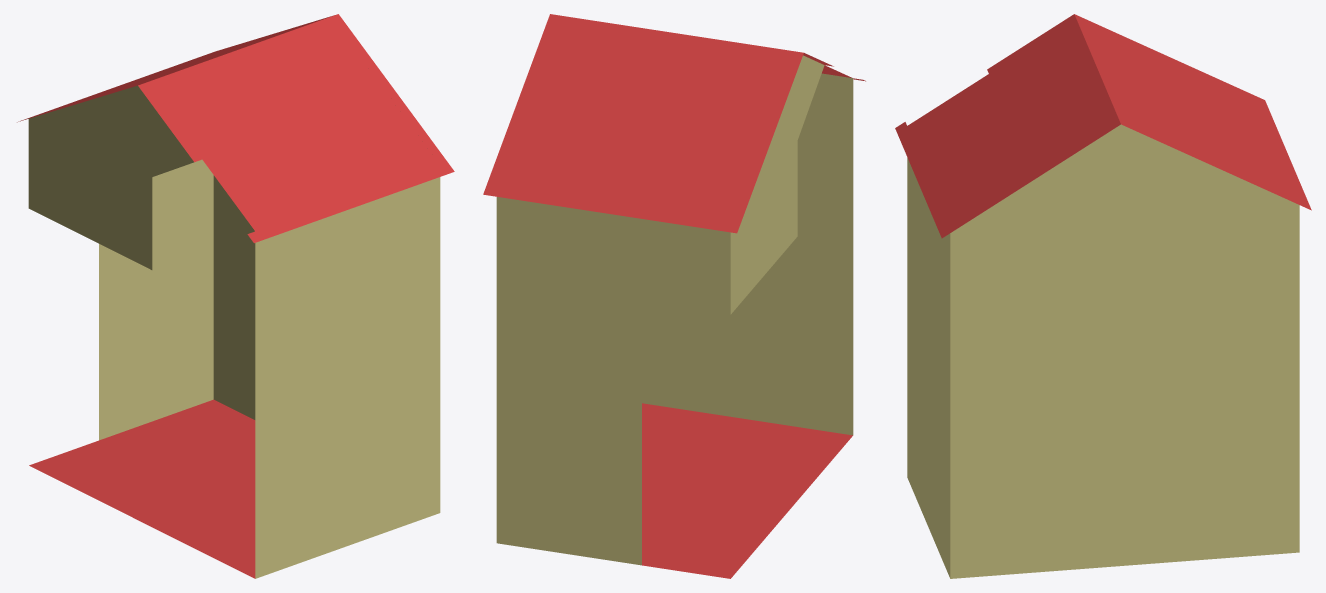
3 renders of one model, left to right at view 1: azimuth 30°, elevation 25°; view 2: azimuth 150°, elevation 25°; view 3: azimuth 270°, elevation 25°, orthographic. The views are drawn at different scales.
Size of the model in its own units: 7.83 by 9.97 by 11.77.
